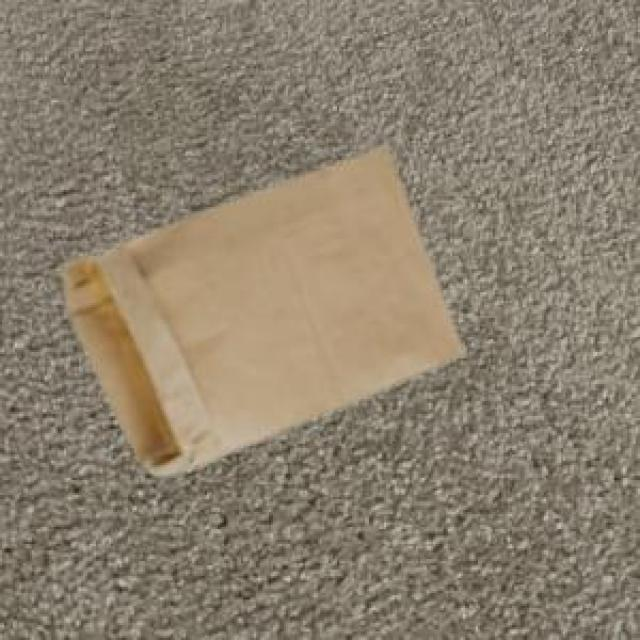PaperCardboard: (61, 143, 468, 479)
